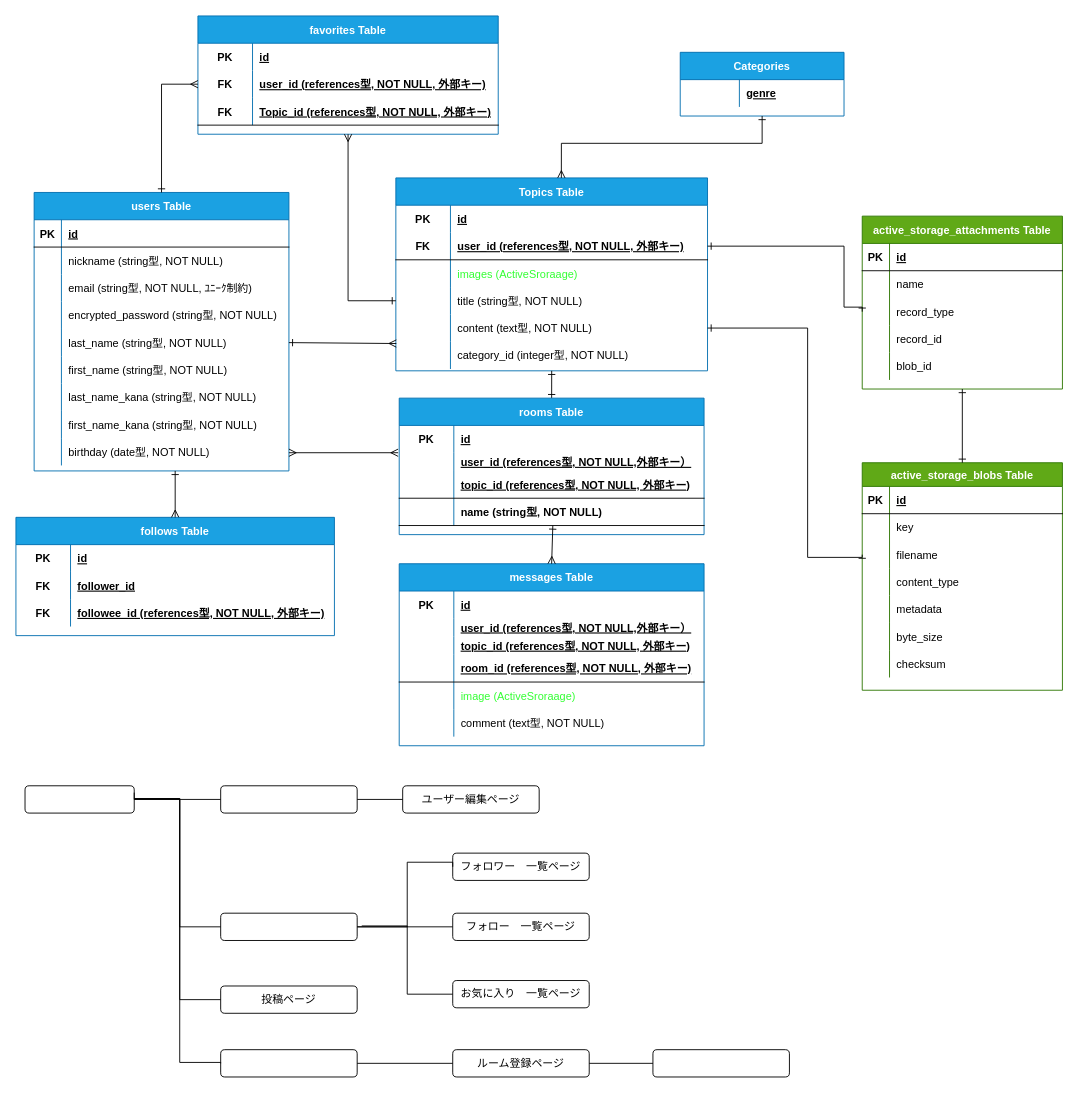
Some shapes in this 1078 by 1093 pixel diagram are drawn without their labels. Each missing label, with the centre of its shape:
"チャットページ" goes at point 720,1063.
"ユーザーマイページ" goes at point 288,926.
"ユーザーログイン /新規投稿ページ" goes at point 288,799.
"一覧ページ" goes at point 79,799.
"詳細ページ" goes at point 288,1063.
